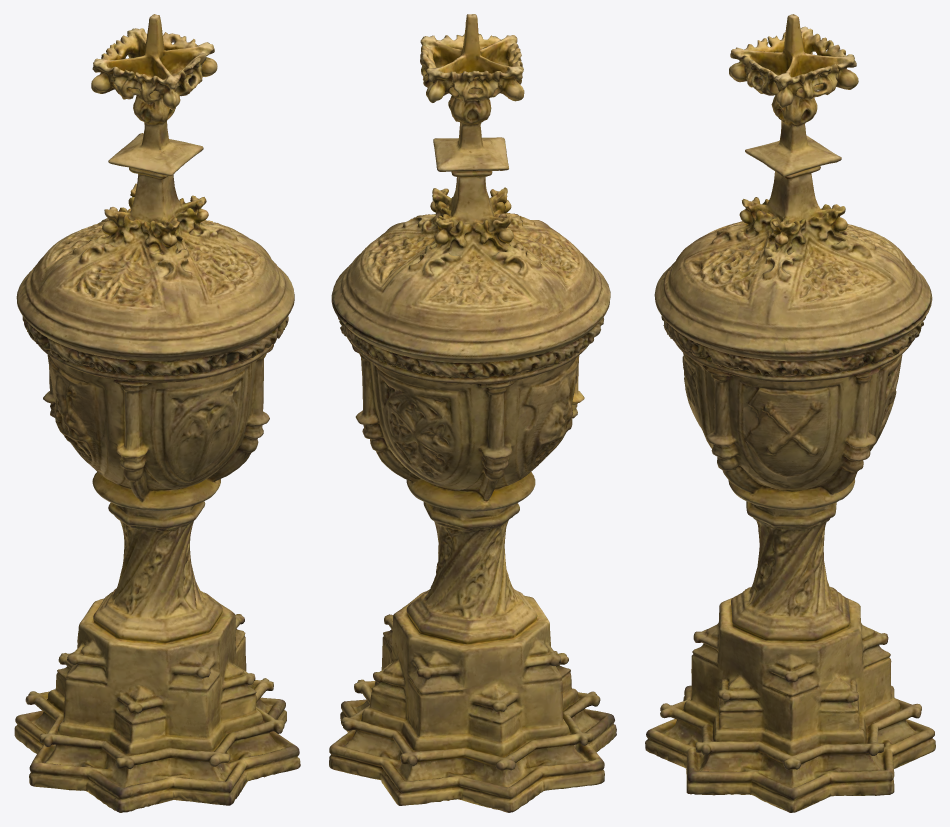
The model's file is preview.glb.
The picture shows the model from 3 angles, left to right: view 1: azimuth 30°, elevation 25°; view 2: azimuth 150°, elevation 25°; view 3: azimuth 270°, elevation 25°; orthographic projection.
Visible parts, largest first — view 1: default_173_5258_IV_Neogotycka_urna_03_FIN_Material_u1_v1_0; view 2: default_173_5258_IV_Neogotycka_urna_03_FIN_Material_u1_v1_0; view 3: default_173_5258_IV_Neogotycka_urna_03_FIN_Material_u1_v1_0.
Boxes of the visible parts, box(x1,y1,x2,y2) form: default_173_5258_IV_Neogotycka_urna_03_FIN_Material_u1_v1_0: box(14, 14, 300, 812); default_173_5258_IV_Neogotycka_urna_03_FIN_Material_u1_v1_0: box(329, 14, 616, 812); default_173_5258_IV_Neogotycka_urna_03_FIN_Material_u1_v1_0: box(645, 14, 935, 812).
Size of the model in its own units: 0.2229 by 0.6043 by 0.217.
Materials: 1 (1 with a texture image).
